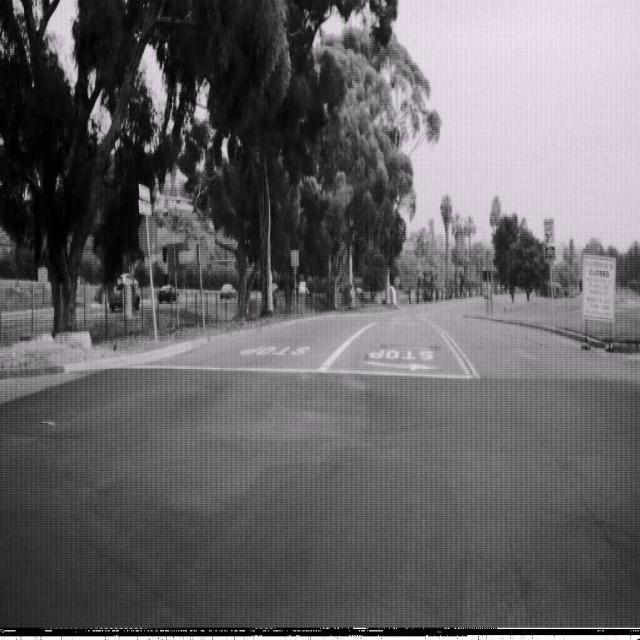speedLimit30: (542, 215, 556, 248)
